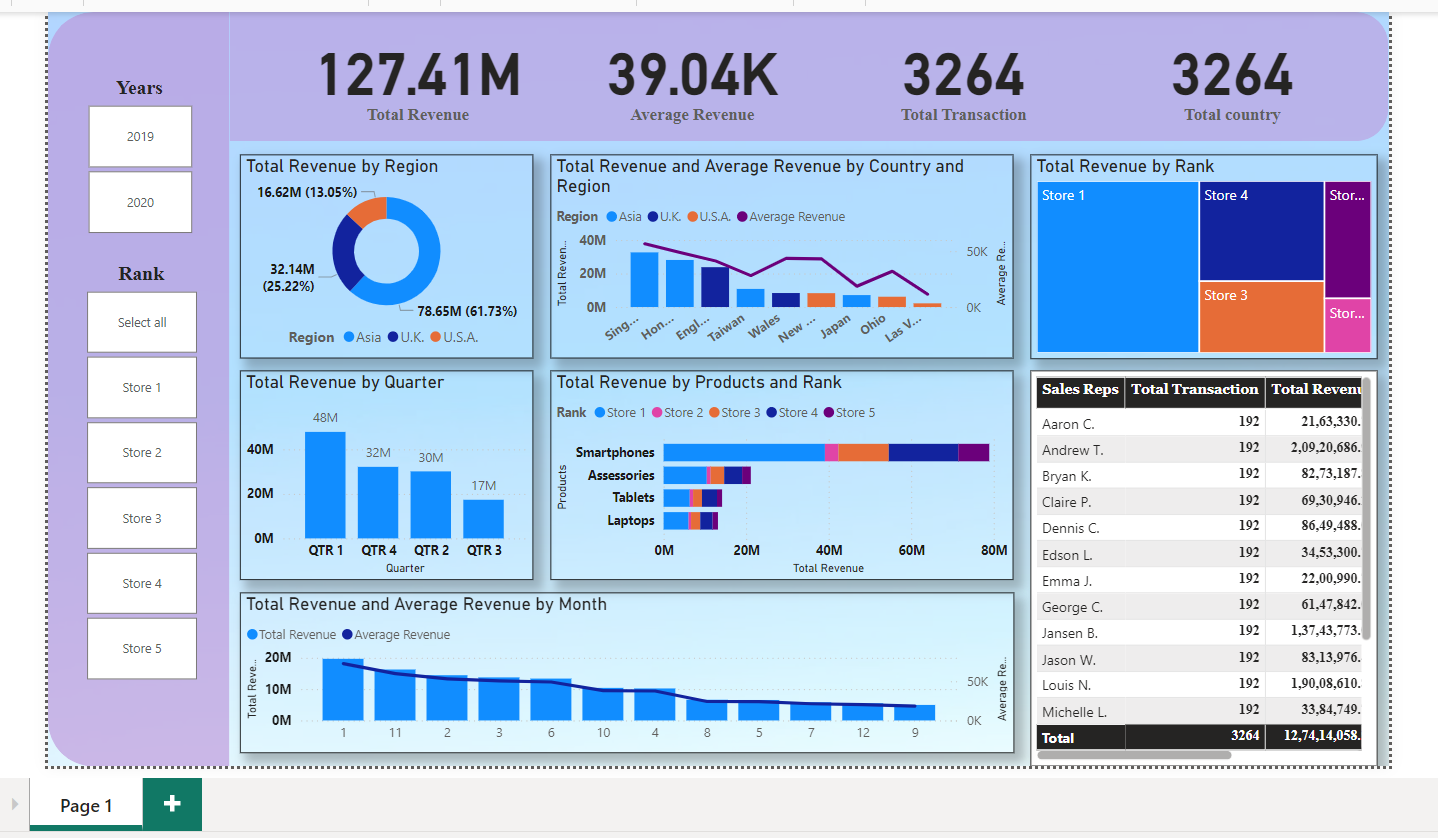

The dashboard page shown, as its layout file describes it:
{"tool":"powerbi","page":{"name":"Page 1","canvas":[1280,720],"ordinal":0},"visuals":[{"type":"shape","box":[0,0,173.4,720.5],"z":0},{"type":"shape","box":[173.5,0,1106.6,123.5],"z":1000},{"type":"card","fields":{"Values":["measures (2).Average Revenue"]},"box":[498.6,4.7,232.9,112.5],"z":2000},{"type":"card","fields":{"Values":["measures (2).Total Transaction"]},"box":[759.6,4.7,229.8,112.5],"z":3000},{"type":"card","fields":{"Values":["measures (2).Total country"]},"box":[1012.8,4.7,236,112.5],"z":4000},{"type":"card","fields":{"Values":["measures (2).Total Revenue"]},"box":[243.8,4.7,218.8,112.5],"z":5000},{"type":"donutChart","fields":{"Y":["measures (2).Total Revenue"],"Category":["Table1.Region"]},"box":[183.3,136.1,279.7,194.6],"z":6000},{"type":"lineStackedColumnComboChart","fields":{"Category":["Table1.Country"],"Y":["measures (2).Total Revenue"],"Y2":["measures (2).Average Revenue"],"Series":["Table1.Region"]},"box":[480,136.1,442.2,194.6],"z":7000},{"type":"treemap","fields":{"Values":["measures (2).Total Revenue"],"Group":["Table1.Rank"]},"box":[937.8,136,331.4,195.4],"z":8000},{"type":"clusteredColumnChart","fields":{"Category":["Table1.Quarter"],"Y":["measures (2).Total Revenue"]},"box":[183.3,342,279.7,200.3],"z":9000},{"type":"barChart","fields":{"Category":["Table1.Products"],"Y":["measures (2).Total Revenue"],"Series":["Table1.Rank"]},"box":[480,342,442.2,200.3],"z":10000},{"type":"pivotTable","fields":{"Values":["measures (2).Total Transaction","measures (2).Total Revenue","measures (2).Average Revenue"],"Rows":["Table1.Sales Reps"]},"box":[937.8,342.3,331.4,378.2],"z":11000},{"type":"lineStackedColumnComboChart","fields":{"Category":["Table1.Month"],"Y":["measures (2).Total Revenue"],"Y2":["measures (2).Average Revenue"]},"box":[182.9,554.9,739.3,153.2],"z":12000},{"type":"slicer","title":"Years","fields":{"Values":["Table1.Years"]},"box":[12.5,61,148.5,156.3],"z":13000},{"type":"slicer","title":"Rank","fields":{"Values":["Table1.Rank"]},"box":[10.9,239.1,154.7,404.8],"z":14000}]}

Visuals, with their boxes on the page's 1280x720 design canvas (x1, y1, x2, y2). These are canvas units, not pixel positions in the 1438x838 screenshot, which may show the page scaled, cropped or inside an application window:
shape: crop(0, 0, 173, 720)
shape: crop(174, 0, 1280, 124)
card - measures (2).Average Revenue: crop(499, 5, 732, 117)
card - measures (2).Total Transaction: crop(760, 5, 989, 117)
card - measures (2).Total country: crop(1013, 5, 1249, 117)
card - measures (2).Total Revenue: crop(244, 5, 463, 117)
donutChart - measures (2).Total Revenue x Table1.Region: crop(183, 136, 463, 331)
lineStackedColumnComboChart - Table1.Country x measures (2).Total Revenue: crop(480, 136, 922, 331)
treemap - measures (2).Total Revenue x Table1.Rank: crop(938, 136, 1269, 331)
clusteredColumnChart - Table1.Quarter x measures (2).Total Revenue: crop(183, 342, 463, 542)
barChart - Table1.Products x measures (2).Total Revenue: crop(480, 342, 922, 542)
pivotTable - measures (2).Total Transaction x measures (2).Total Revenue: crop(938, 342, 1269, 720)
lineStackedColumnComboChart - Table1.Month x measures (2).Total Revenue: crop(183, 555, 922, 708)
"Years" slicer: crop(12, 61, 161, 217)
"Rank" slicer: crop(11, 239, 166, 644)
